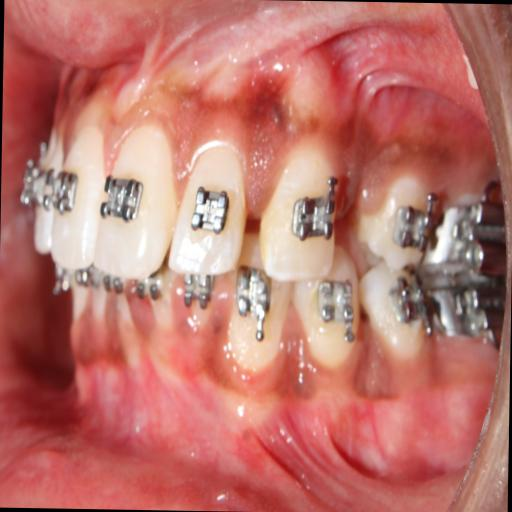correct_brace: (288, 170, 342, 246), (186, 182, 232, 238)
incorrect_brace: (166, 130, 251, 278)
